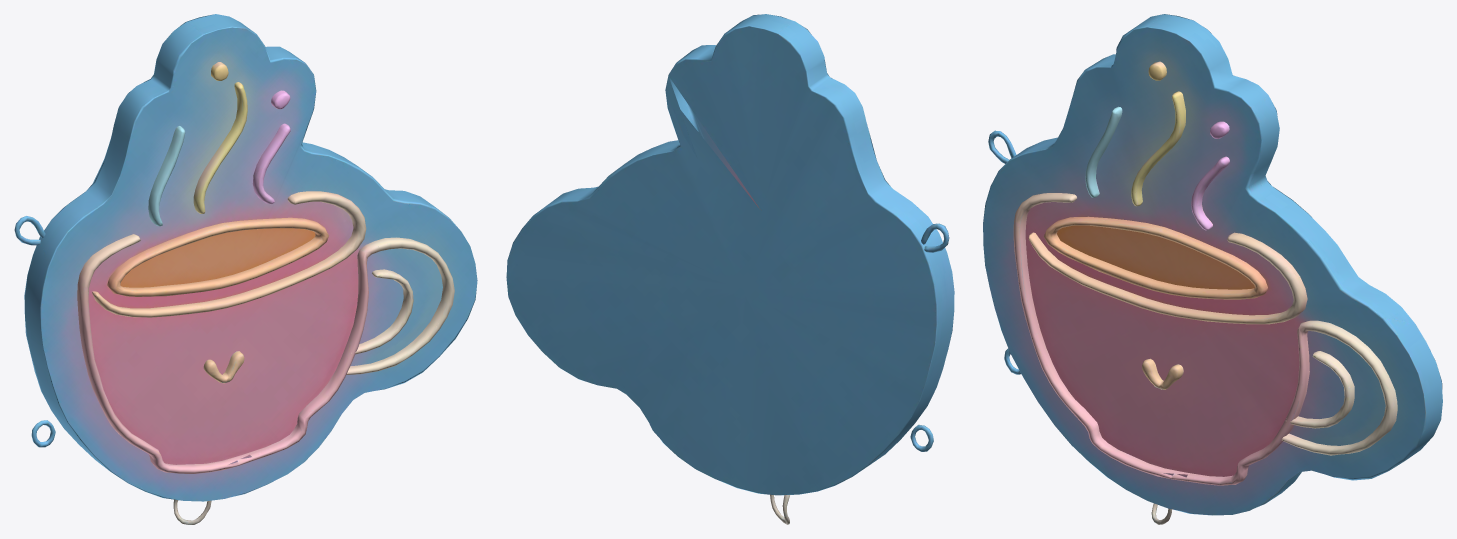
The model's file is cafe-neon-cup.glb.
3 views of the same model, side by side, from view 1: azimuth 30°, elevation 25°; view 2: azimuth 150°, elevation 25°; view 3: azimuth 330°, elevation 25° (orthographic). The views are drawn at different scales.
Parts seen in each view (by area): view 1: geometry_0; view 2: geometry_0; view 3: geometry_0.
Boxes of the visible parts, x1,y1,x2,y2 form: geometry_0: (14, 14, 477, 524); geometry_0: (506, 14, 954, 524); geometry_0: (983, 14, 1442, 524).
Bounding box in the file's own units: 0.938 × 1 × 0.0961.
Materials: 1 (1 with a texture image).
